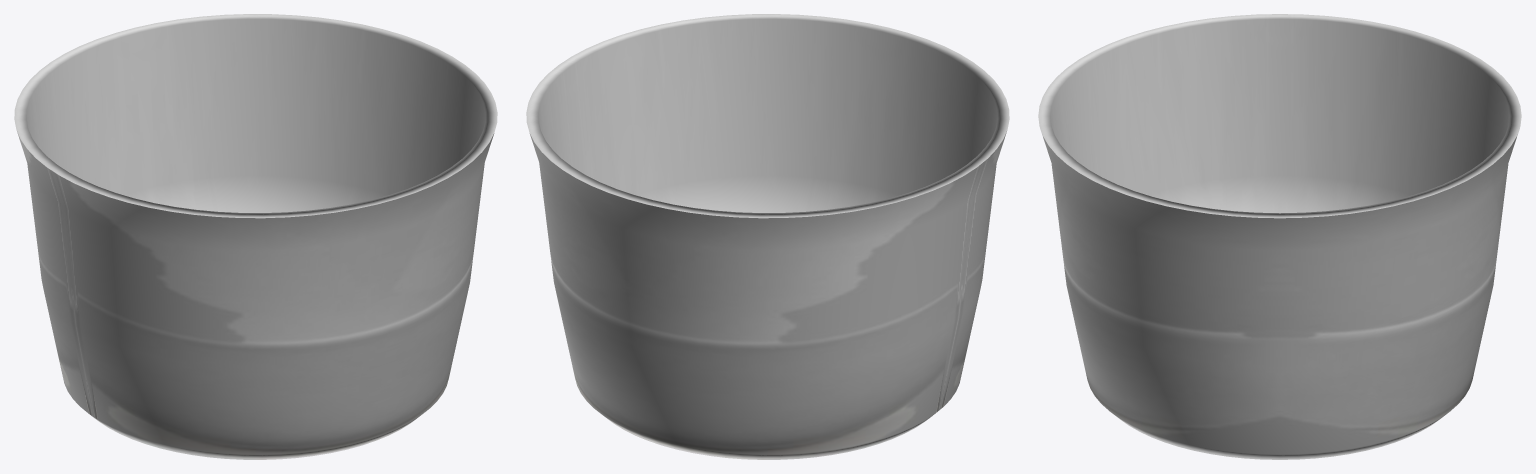
Rendered from CER-13.glb.
3 renders of one model, left to right at view 1: azimuth 30°, elevation 25°; view 2: azimuth 150°, elevation 25°; view 3: azimuth 270°, elevation 25°, orthographic.
Size of the model in its own units: 0.19 by 0.1159 by 0.19.
2 materials, 2 textured.
